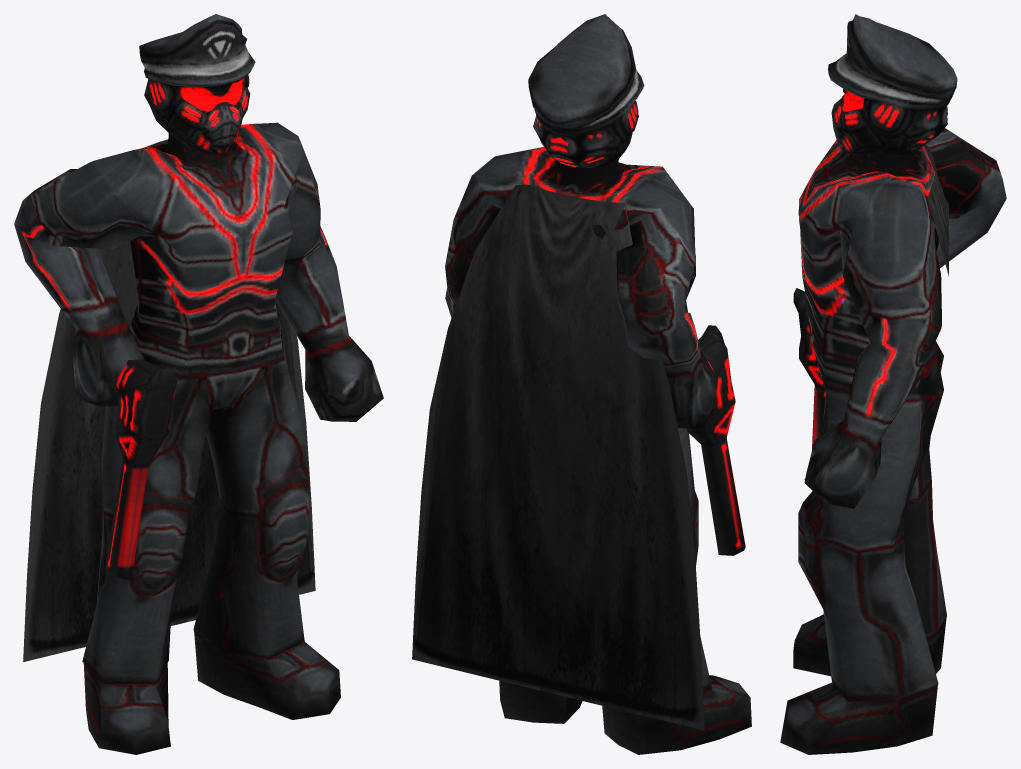
Rendered from InfantryOfficer.glb.
3 renders of one model, left to right at view 1: azimuth 30°, elevation 25°; view 2: azimuth 150°, elevation 25°; view 3: azimuth 270°, elevation 25°, orthographic.
Visible parts, largest first — view 1: Mesh.002, Mesh; view 2: Mesh, Mesh.002; view 3: Mesh.002, Mesh.
Part boxes in pixels (x1,y1,x2,y2): Mesh.002: (14,14,383,754); Mesh: (23,139,315,661); Mesh: (412,184,704,730); Mesh.002: (445,14,751,754); Mesh.002: (780,14,1006,754); Mesh: (924,144,948,276).
Size of the model in its own units: 0.4231 by 0.9508 by 0.2822.
Materials: 4 (4 with a texture image).
